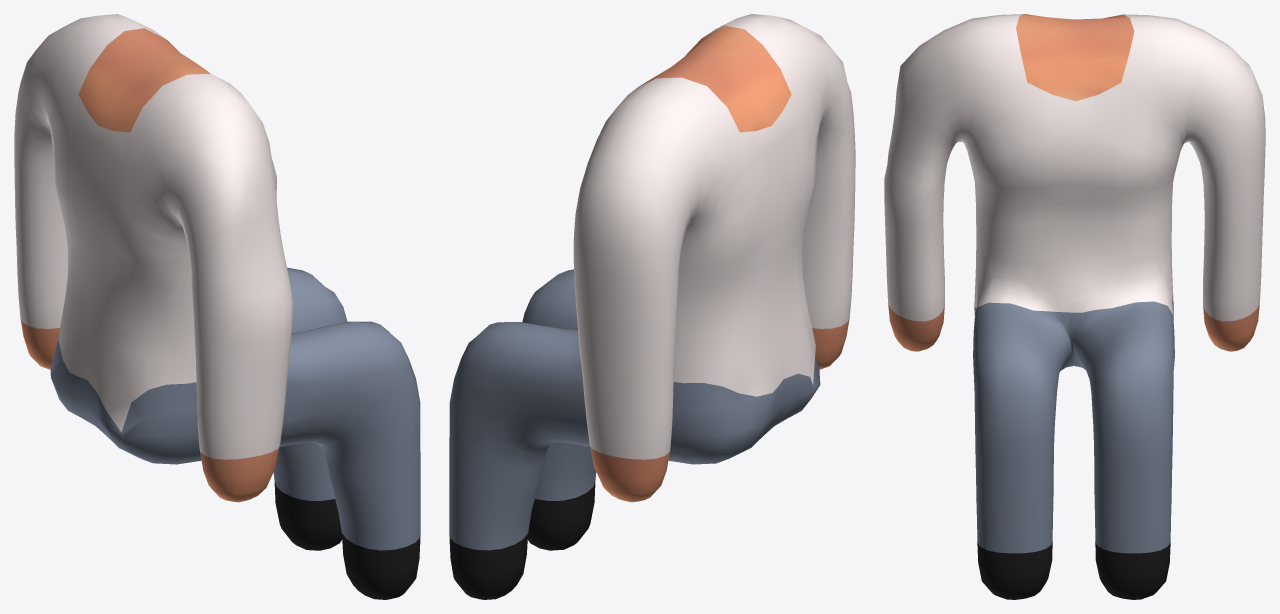
The model's file is Body.fbx.
3 renders of one model, left to right at view 1: azimuth 30°, elevation 25°; view 2: azimuth 150°, elevation 25°; view 3: azimuth 270°, elevation 25°, orthographic. The views are drawn at different scales.
Visible parts, largest first — view 1: Body; view 2: Body; view 3: Body.
Part boxes in pixels (<box>): Body: <box>14,14,420,599</box>; Body: <box>449,14,855,599</box>; Body: <box>884,14,1265,599</box>.
Size of the model in its own units: 110 by 200 by 139.
